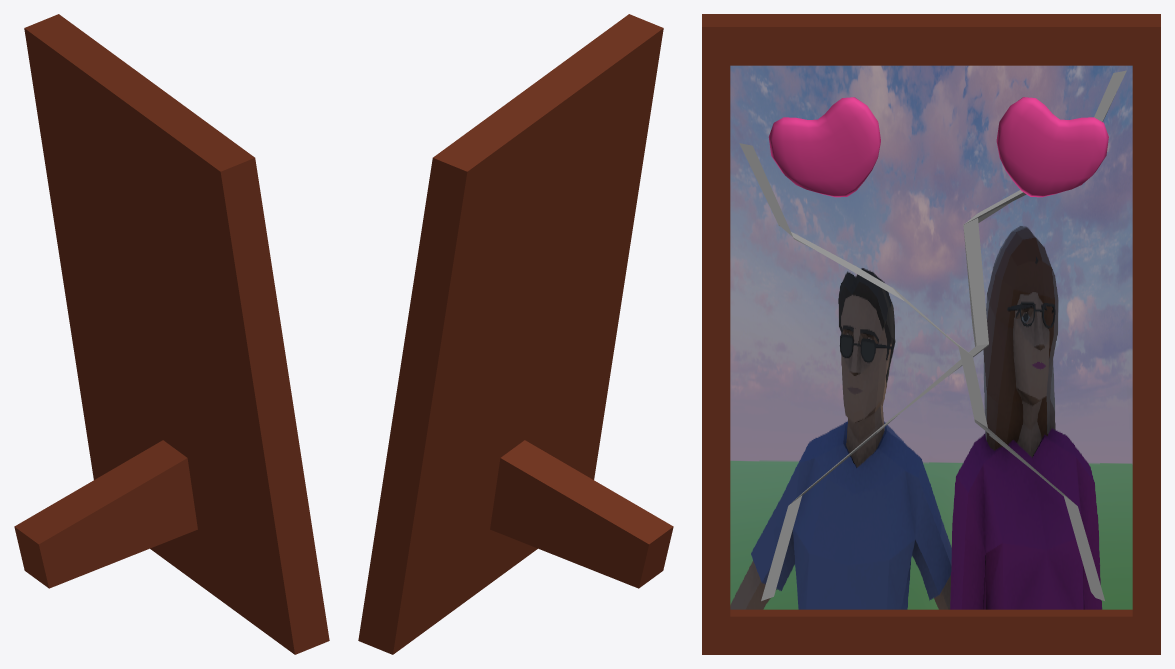
File: retrato.fbx
3 views of the same model, side by side, from view 1: azimuth 30°, elevation 25°; view 2: azimuth 150°, elevation 25°; view 3: azimuth 270°, elevation 25° (orthographic). The views are drawn at different scales.
Visible parts, largest first — view 1: Cube, Cube.001; view 2: Cube, Cube.001; view 3: Cube.002, Cube, Cube.003, Cube.004, Cube.005, Cube.006.
Part boxes in pixels (x1,y1,x2,y2): Cube: [24, 14, 329, 654]; Cube.001: [14, 440, 197, 588]; Cube: [358, 14, 663, 654]; Cube.001: [490, 440, 673, 588]; Cube.002: [730, 65, 1132, 609]; Cube: [702, 14, 1160, 654]; Cube.003: [996, 97, 1108, 197]; Cube.004: [768, 97, 880, 197]; Cube.005: [761, 70, 1126, 601]; Cube.006: [739, 143, 1104, 600].
Size of the model in its own units: 303 by 717 by 503.
